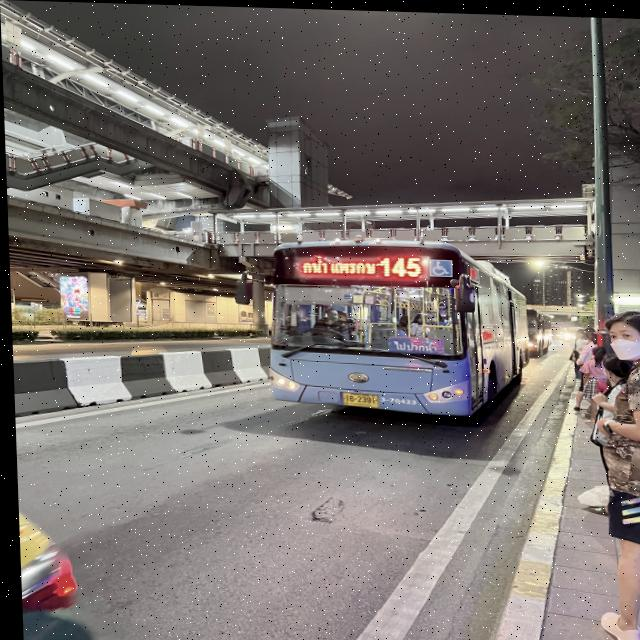BMTA-bus: (262, 234, 528, 420)
Bus-Line-Number: (374, 252, 423, 277)
Destination-Sign-Normal: (387, 334, 443, 353)
